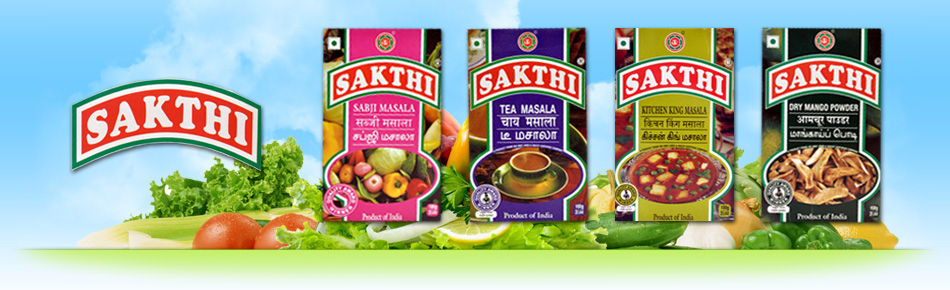VEG: (617, 35, 631, 49), (470, 38, 484, 51), (766, 35, 781, 47), (328, 37, 342, 49)
